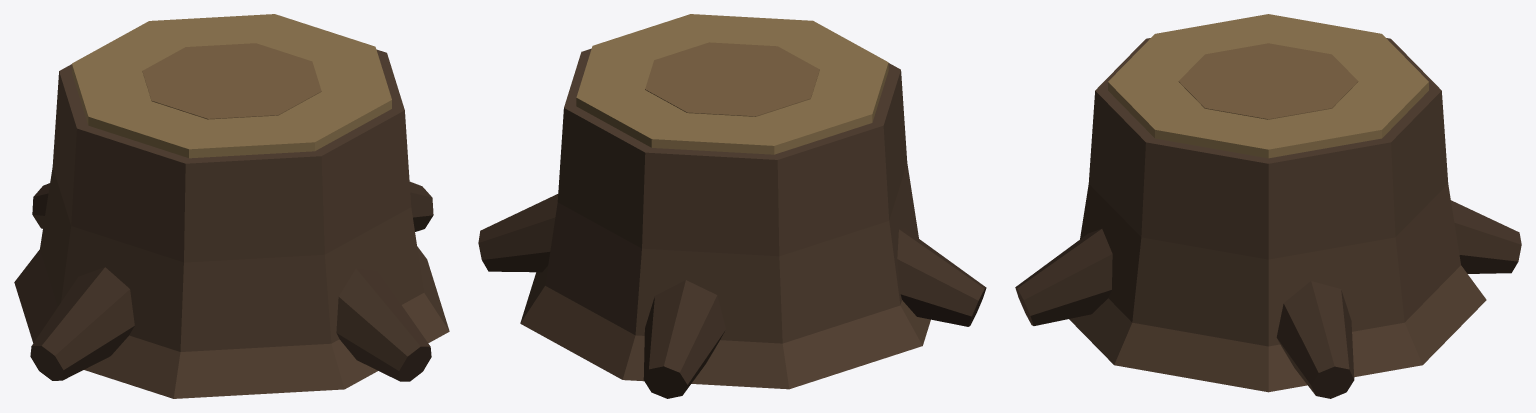
Rendered from souche.glb.
The picture shows the model from 3 angles, left to right: view 1: azimuth 30°, elevation 25°; view 2: azimuth 150°, elevation 25°; view 3: azimuth 270°, elevation 25°; orthographic projection. The views are drawn at different scales.
Visible parts, largest first — view 1: trunk, cut, roots, heart; view 2: trunk, cut, roots, heart; view 3: trunk, cut, roots, heart.
Part boxes in pixels (<box>): trunk: <box>14,49,449,398</box>; cut: <box>72,14,391,158</box>; roots: <box>30,181,433,381</box>; heart: <box>142,43,321,119</box>; trunk: <box>520,48,930,389</box>; cut: <box>576,14,888,154</box>; roots: <box>478,194,986,398</box>; heart: <box>645,42,819,116</box>; trunk: <box>1069,38,1486,392</box>; cut: <box>1108,14,1428,158</box>; roots: <box>1015,200,1521,398</box>; heart: <box>1178,43,1358,119</box>.
Bounding box in the file's own units: 0.7889 × 0.376 × 0.7889.
4 materials, 4 textured.
